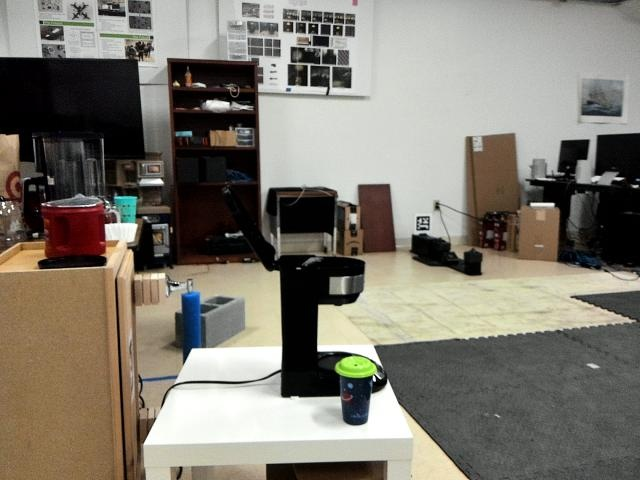coffee_cup: (109, 193, 138, 226)
noodle_handle: (176, 283, 207, 347)
useless_cup: (333, 355, 377, 431)
